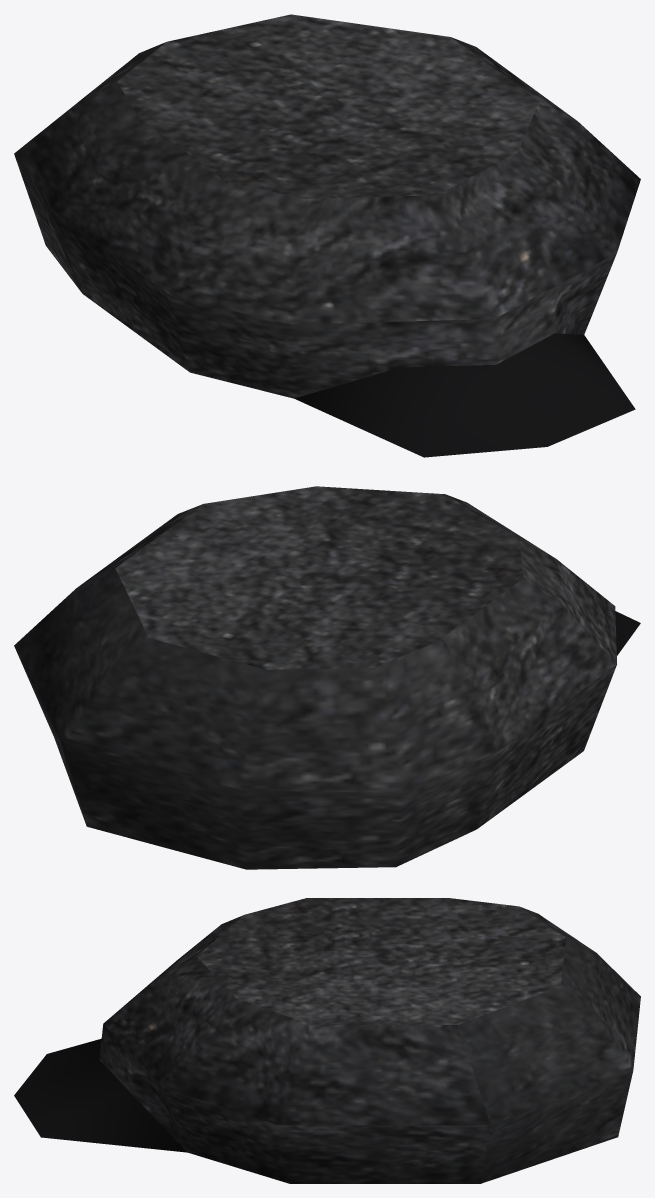
The model's file is gopnikCap.FBX.
3 renders of one model, top to bottom at view 1: azimuth 30°, elevation 25°; view 2: azimuth 150°, elevation 25°; view 3: azimuth 270°, elevation 25°, orthographic. The views are drawn at different scales.
Visible parts, largest first — view 1: gopnikCap; view 2: gopnikCap; view 3: gopnikCap.
Part boxes in pixels (x1,y1,x2,y2): gopnikCap: (14, 14, 640, 457); gopnikCap: (14, 486, 640, 869); gopnikCap: (14, 898, 640, 1183).
Size of the model in its own units: 20.3 by 6.99 by 28.41.
